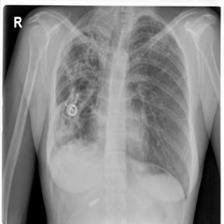tuberculosis: (43, 5, 199, 207)
